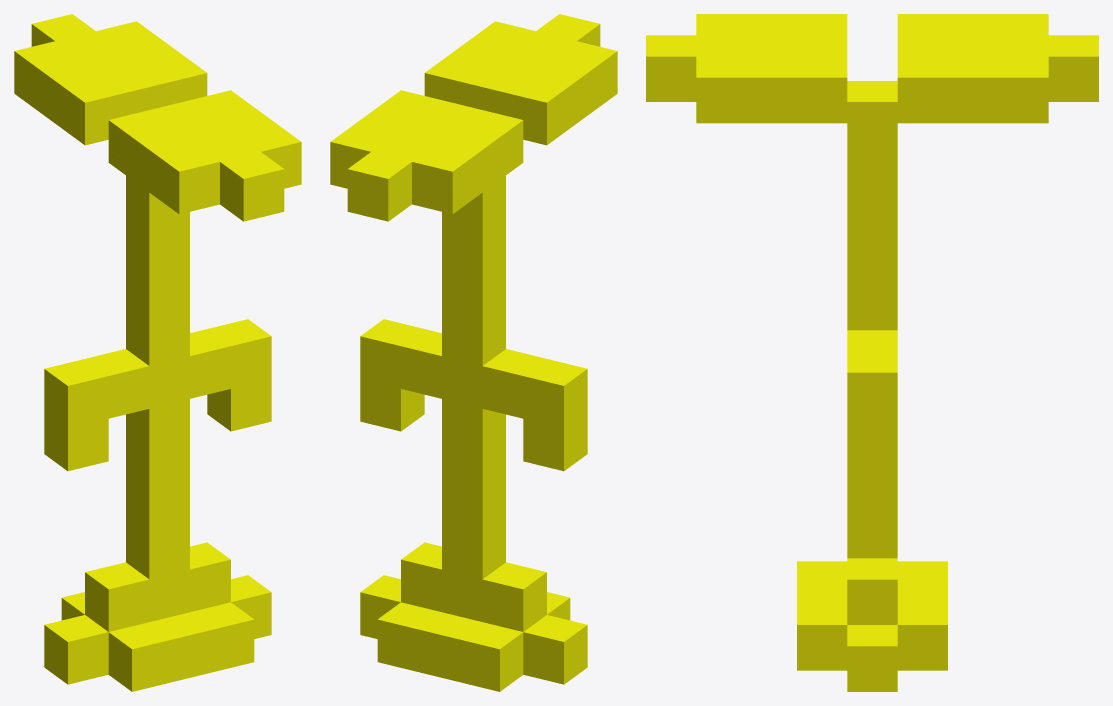
The model's file is voxel-farm-potato.glb.
The picture shows the model from 3 angles, left to right: view 1: azimuth 30°, elevation 25°; view 2: azimuth 150°, elevation 25°; view 3: azimuth 270°, elevation 25°; orthographic projection. The views are drawn at different scales.
Parts seen in each view (by area): view 1: VS_Farm_Potato; view 2: VS_Farm_Potato; view 3: VS_Farm_Potato.
Part boxes in pixels (bbox=[...]): VS_Farm_Potato: bbox=[14, 14, 301, 691]; VS_Farm_Potato: bbox=[330, 14, 617, 691]; VS_Farm_Potato: bbox=[646, 14, 1098, 691].
Size of the model in its own units: 0.4999 by 1.3 by 0.9.
